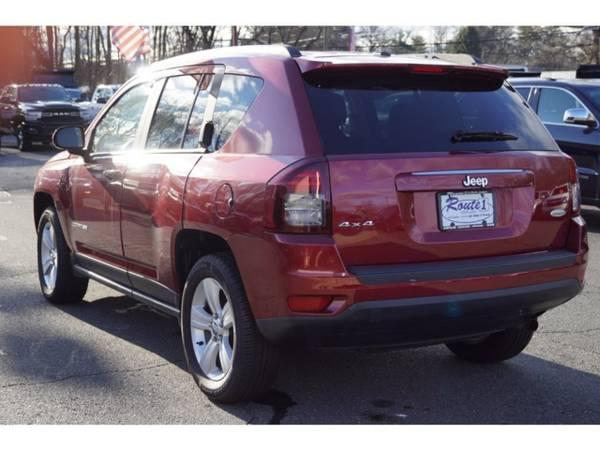Front_Fender: (32, 153, 77, 255)
Front_Left_Door: (64, 153, 133, 294)
Front_Left_Window: (79, 78, 158, 154)
Left_Taillight: (274, 159, 330, 240)
Rear_Bumper: (227, 222, 589, 354)
Rear_Fender: (181, 72, 303, 238)
Rear_Left_Door: (123, 152, 204, 314)
Rear_Left_Window: (134, 71, 220, 152)
Rear_Windshield: (297, 69, 559, 160)
Roof: (72, 48, 505, 164)
Tailgate: (326, 157, 578, 271)
Wheel: (176, 247, 254, 393), (35, 210, 67, 301)
